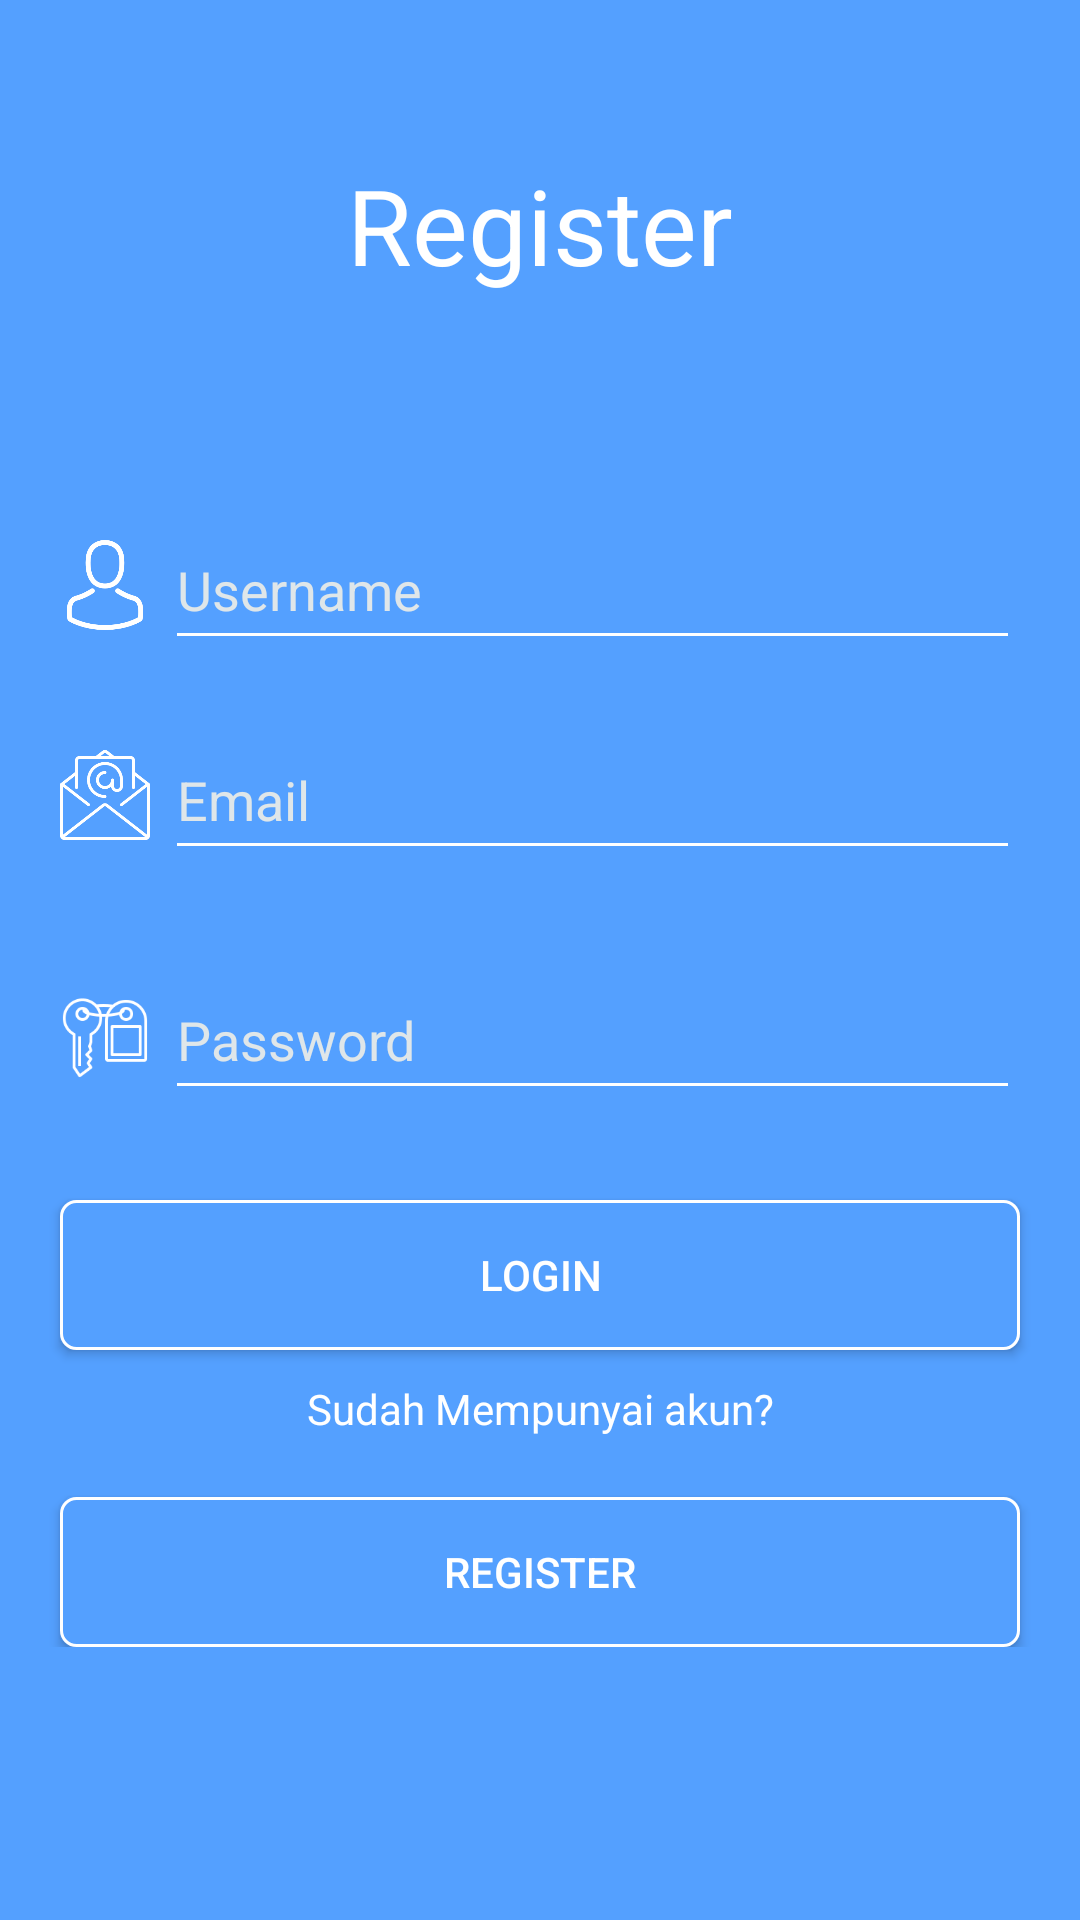

Icons on this 1080w x 1920h Android screen, each with the point to tap as [x,y]:
key: [105,1037]
